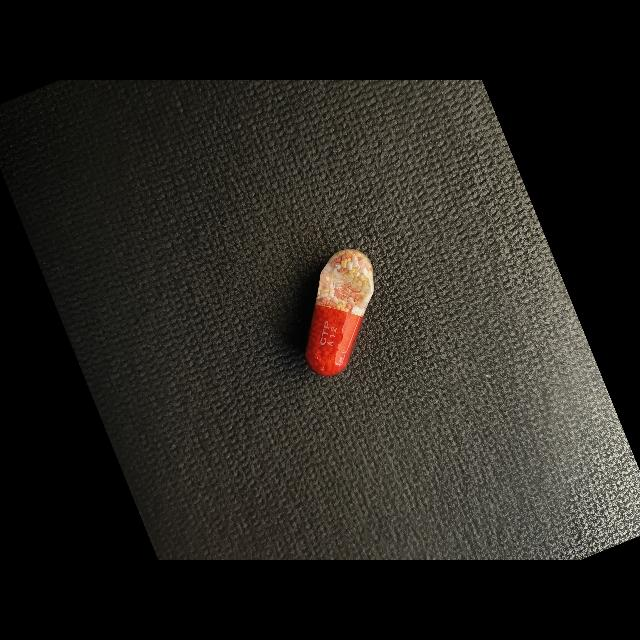Defective Capsule: (306, 249, 373, 376)
